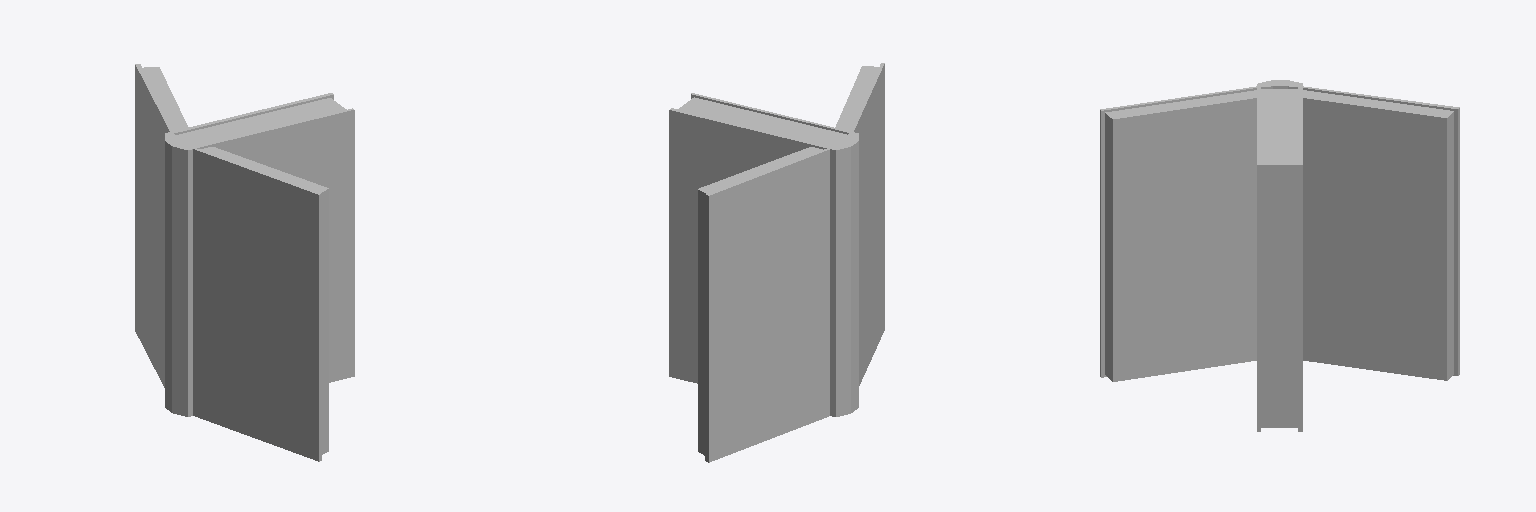
File: grimoir.obj
3 renders of one model, left to right at view 1: azimuth 30°, elevation 25°; view 2: azimuth 150°, elevation 25°; view 3: azimuth 270°, elevation 25°, orthographic.
Parts seen in each view (by area): view 1: Cube.001, Cube; view 2: Cube.001, Cube; view 3: Cube.001, Cube.
Boxes of the visible parts, <box> form: Cube.001: <box>135,64,328,461</box>; Cube: <box>165,93,354,416</box>; Cube.001: <box>698,63,884,462</box>; Cube: <box>669,93,858,416</box>; Cube.001: <box>1100,81,1459,381</box>; Cube: <box>1257,80,1302,431</box>.
Bounding box in the file's own units: 1.99 × 2.91 × 3.56.